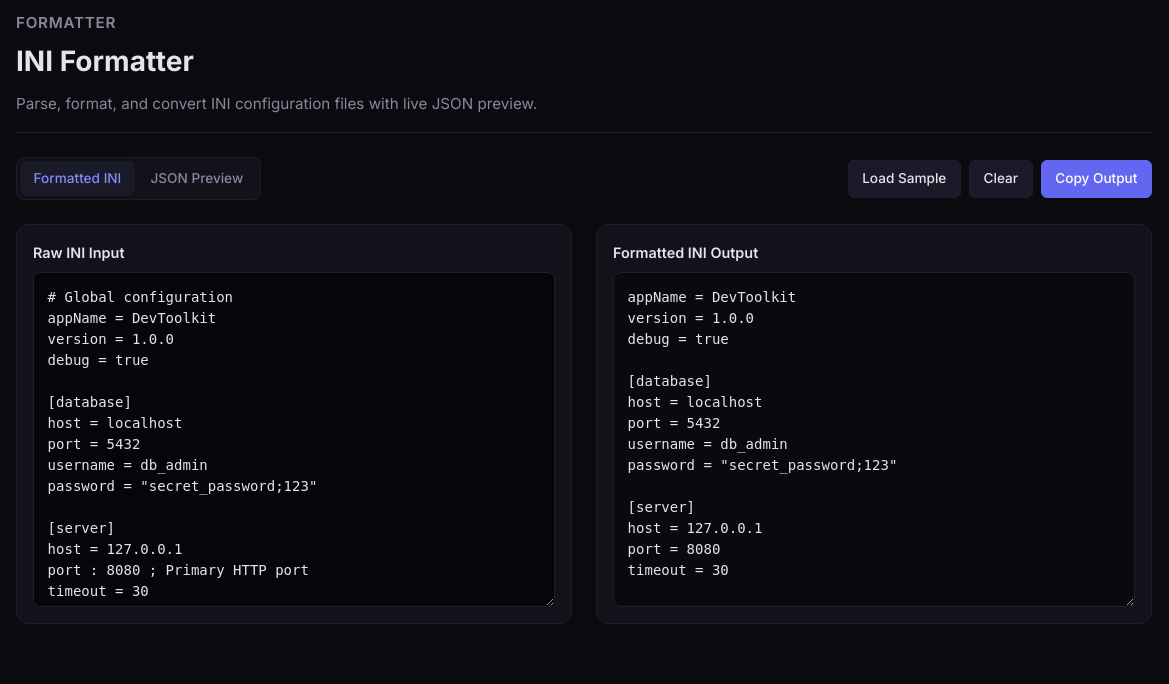
Test: IniFormatterTool › copies formatted output to clipboard
Click the button "Copy Output" at (1096, 179), box [1041,160,1152,198]
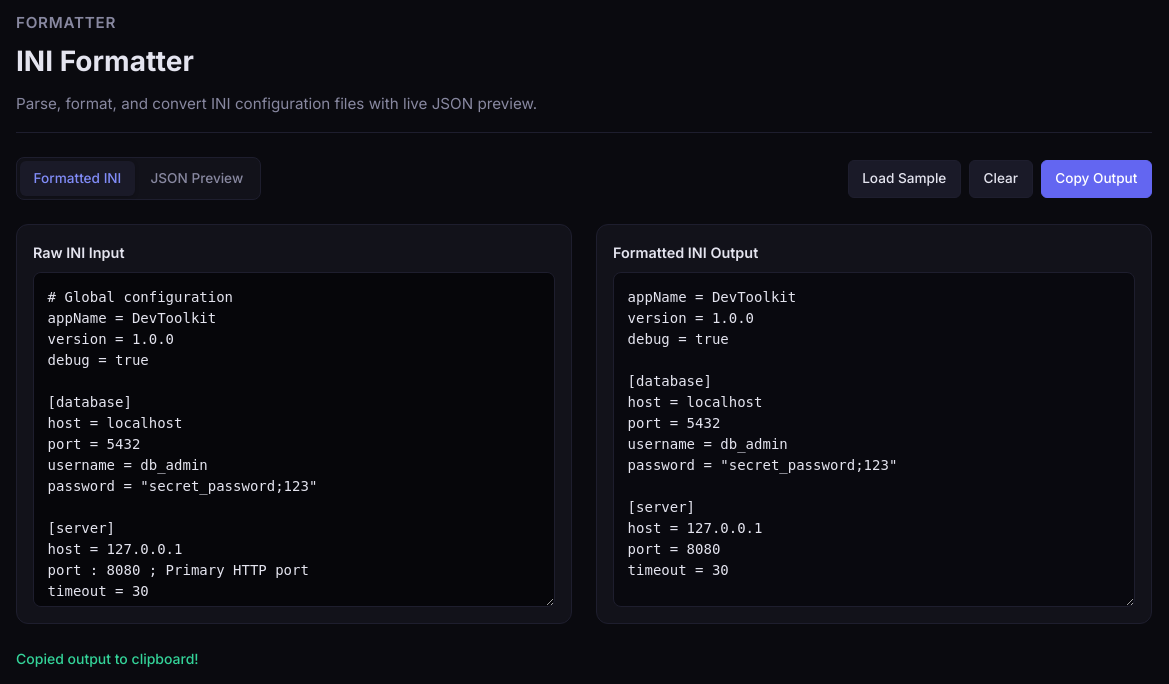
Expected: the message reads "Copied output to clipboard!", [16,650,199,667]
